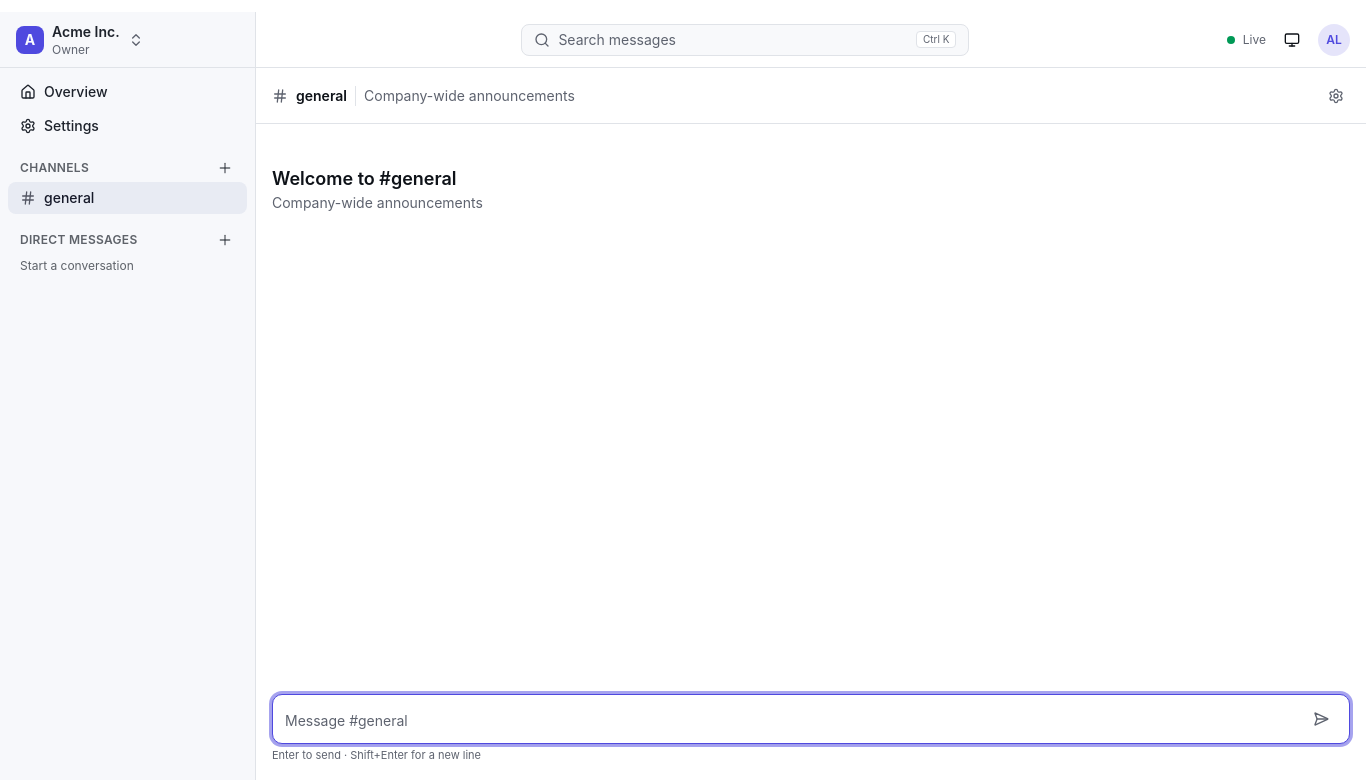
Scenario: sending and realtime updates › marks a failed send and retries it
This screenshot has width=1366, height=780.
Type "Retry me" into the text box labelled "Message #general" at (791, 723), box [285,711,1297,735]
Then press Enter
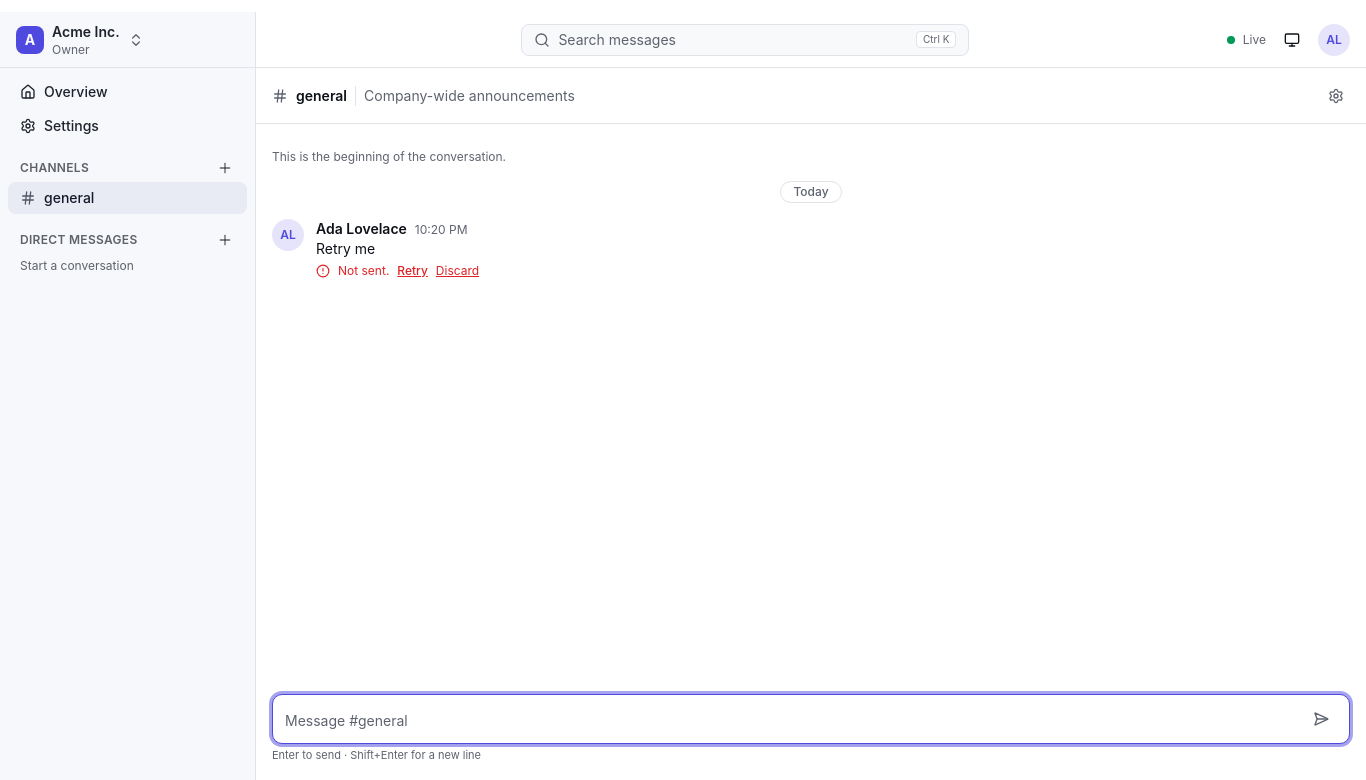
Result: the message "Not sent. Retry Discard" is shown at [316,263,479,279]
Click the button "Retry" at (413, 271), box [397,263,428,279]
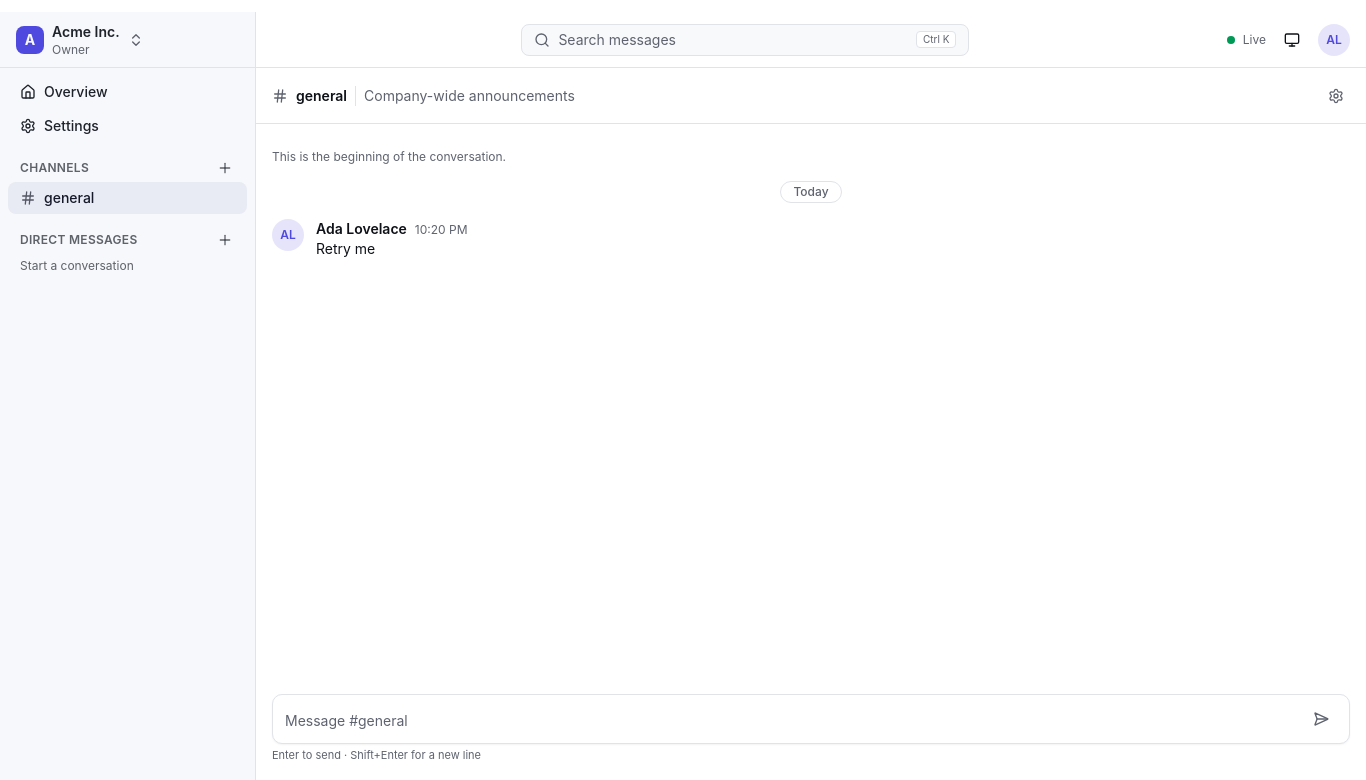
Expected: the text "Retry me" is shown once, [316,240,375,257]
Result: the text "Not sent." is gone
